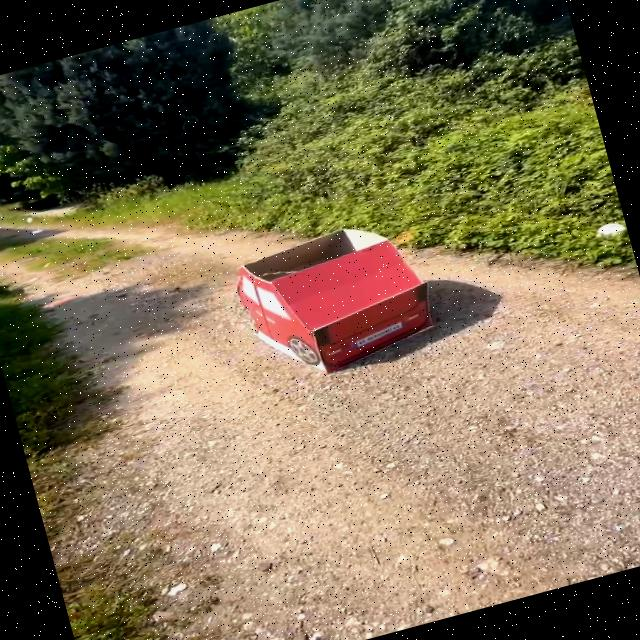red_car: (201, 193, 516, 404)
